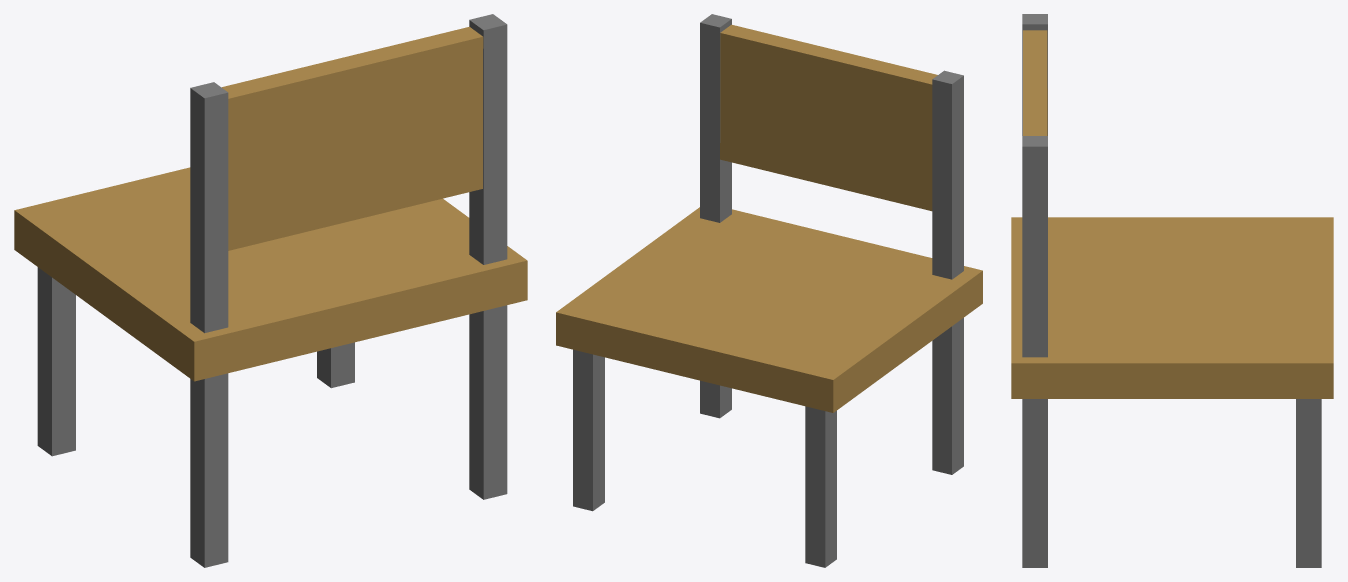
Rendered from chair.fbx.
3 views of the same model, side by side, from view 1: azimuth 30°, elevation 25°; view 2: azimuth 150°, elevation 25°; view 3: azimuth 270°, elevation 25° (orthographic). The views are drawn at different scales.
Visible parts, largest first — view 1: Cube.005; view 2: Cube.005; view 3: Cube.005.
Boxes of the visible parts, x1,y1,x2,y2 form: Cube.005: (14,14,527,567); Cube.005: (556,14,982,567); Cube.005: (1011,14,1333,567).
Bounding box in the file's own units: 220 × 297 × 206.
